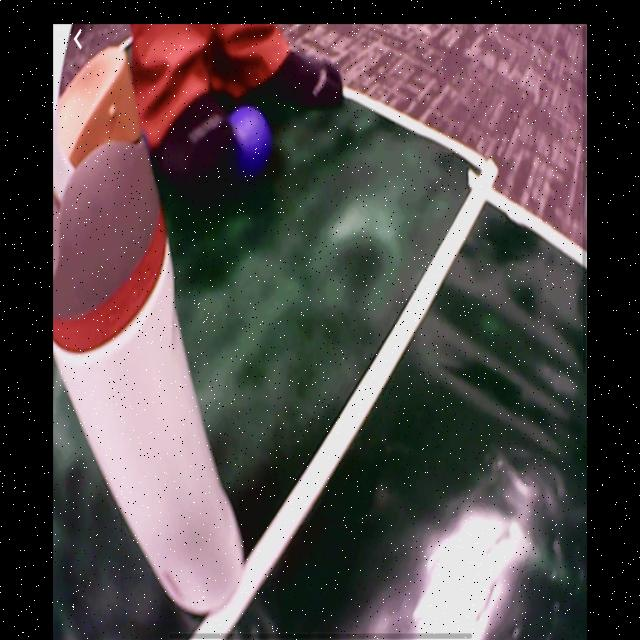ball: (230, 108, 272, 174)
